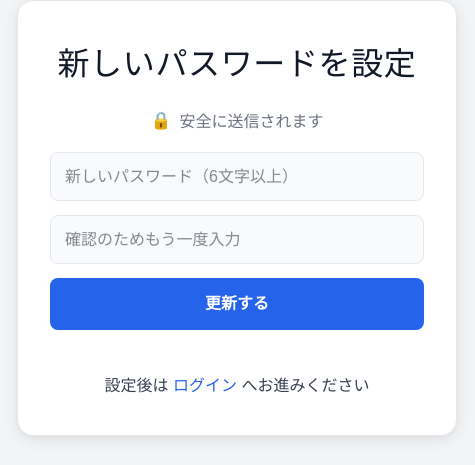
Test case: ResetPasswordForm › 6文字未満だと、通信せずにエラーを出す
Expected: the button "更新する" is enabled, [50,278,424,330]
Step 1. Type "abcde" into the password field labelled "新しいパスワード" → coordinates (237, 176), box [50,152,424,201]
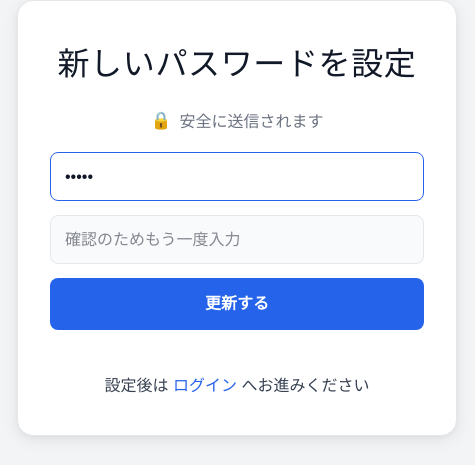
Step 2. Type "abcde" into the password field named "新しいパスワード（確認）" → coordinates (237, 240), box [50,215,424,264]
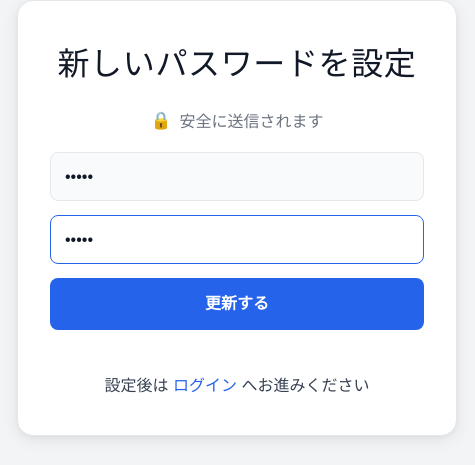
Step 3. Click the button "更新する" → coordinates (237, 304), box [50,278,424,330]
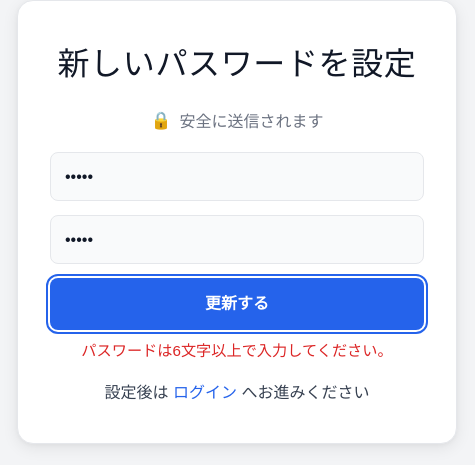
Expected: the text "パスワードは6文字以上で入力してください。" is shown, [81,342,393,358]
